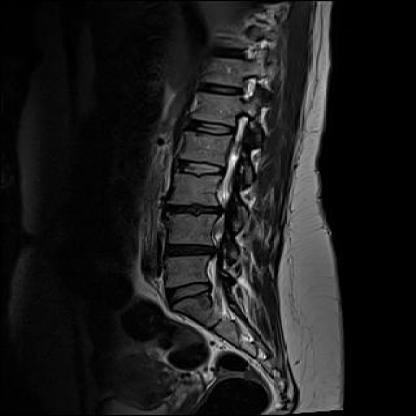Disc Bulgerotation: (158, 196, 229, 220), (160, 239, 223, 266), (158, 279, 218, 303)
